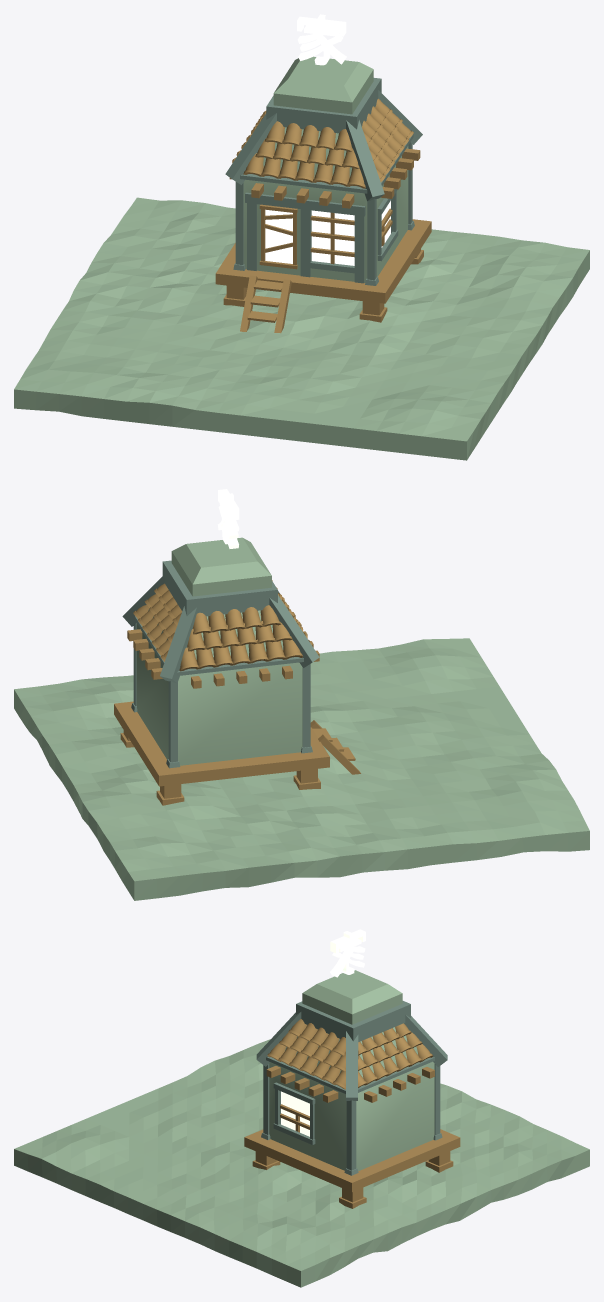
The model's file is PortfolioWebsite3JS.glb.
The picture shows the model from 3 angles, top to bottom: view 1: azimuth 30°, elevation 25°; view 2: azimuth 150°, elevation 25°; view 3: azimuth 270°, elevation 25°; orthographic projection. The views are drawn at different scales.
Parts seen in each view (by area): view 1: Land, Cube.5 (×2), Cube, Cube.15, TextExtrude, LeftWindow, Cube.11, WindowBox, Cube.14, Cube.10, Cube.6, Cube.9 (+3 smaller); view 2: Land, Cube.5, Cube, Cube.15, Cube.13, Cube.14, TextExtrude, Cube.10, Cube.8, Cube.9; view 3: Land, Cube.5, Cube, Cube.15, TextExtrude, Cube.10, Cube.7, Cube.12, RightWindow, Cube.13, Cube.11, Cube.8 (+1 smaller).
Boxes of the visible parts, bbox=[...] form: Land: bbox=[14, 197, 589, 460]; Cube.5 (×2): bbox=[243, 56, 408, 282]; Cube: bbox=[215, 219, 431, 303]; Cube.15: bbox=[266, 78, 381, 133]; TextExtrude: bbox=[297, 14, 346, 65]; LeftWindow: bbox=[311, 210, 354, 265]; Cube.11: bbox=[346, 120, 384, 201]; WindowBox: bbox=[265, 209, 292, 263]; Cube.14: bbox=[225, 113, 276, 184]; Cube.10: bbox=[240, 134, 413, 193]; Cube.6: bbox=[365, 198, 378, 285]; Cube.9: bbox=[233, 182, 245, 270]; Land: bbox=[14, 638, 589, 900]; Cube.5: bbox=[136, 537, 302, 765]; Cube: bbox=[114, 701, 329, 786]; Cube.15: bbox=[162, 560, 277, 616]; Cube.13: bbox=[160, 606, 196, 683]; Cube.14: bbox=[269, 595, 319, 667]; TextExtrude: bbox=[217, 489, 239, 548]; Cube.10: bbox=[135, 616, 303, 675]; Cube.8: bbox=[166, 681, 180, 768]; Cube.9: bbox=[301, 664, 312, 753]; Land: bbox=[14, 1039, 589, 1287]; Cube.5: bbox=[269, 970, 434, 1170]; Cube: bbox=[244, 1129, 460, 1191]; Cube.15: bbox=[296, 1001, 410, 1041]; TextExtrude: bbox=[330, 929, 365, 977]; Cube.10: bbox=[266, 1057, 434, 1093]; Cube.7: bbox=[344, 1100, 358, 1175]; Cube.12: bbox=[346, 1031, 358, 1100]; RightWindow: bbox=[281, 1091, 309, 1136]; Cube.13: bbox=[404, 1015, 447, 1066]; Cube.11: bbox=[256, 1012, 301, 1066]; Cube.8: bbox=[433, 1064, 442, 1140].
Size of the model in its own units: 566 by 274 by 566.
